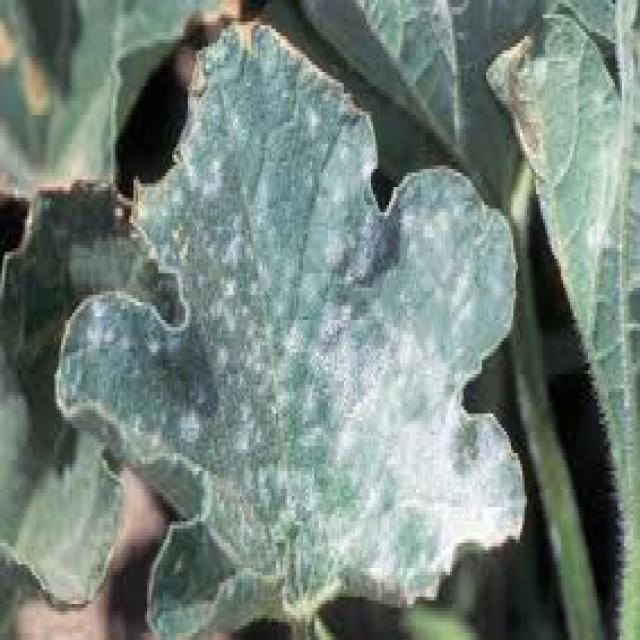powdery-mildew: (274, 200, 518, 599), (595, 24, 640, 308)
